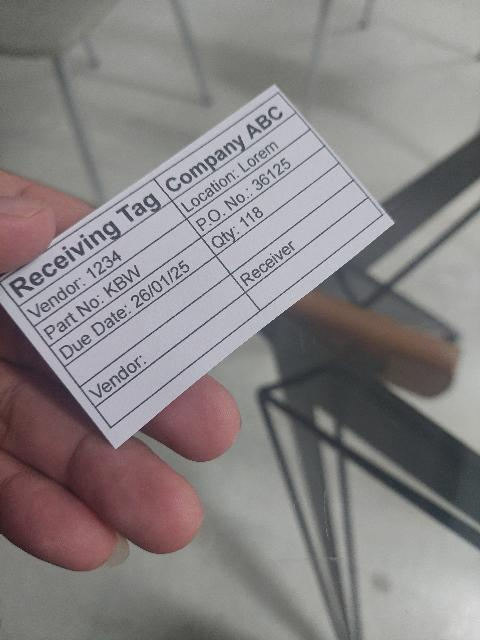PO no: (185, 129, 323, 236)
part no: (35, 219, 202, 345)
qty: (199, 146, 335, 257)
tags: (0, 86, 394, 451)
